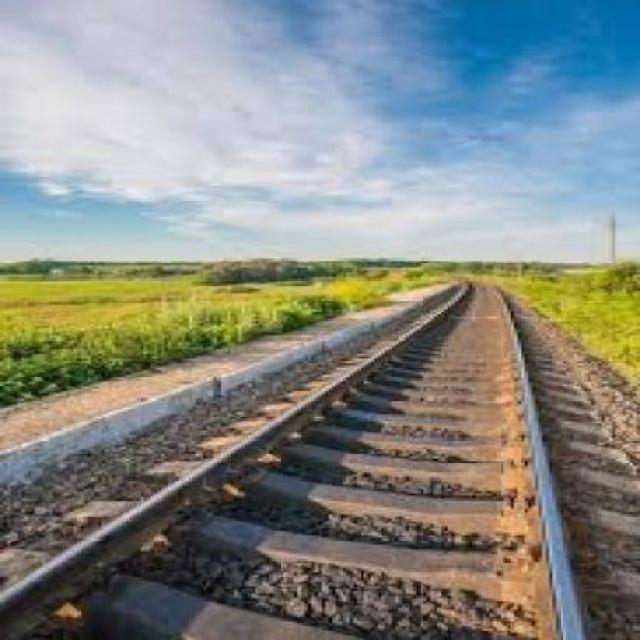rail: (4, 261, 635, 632)
